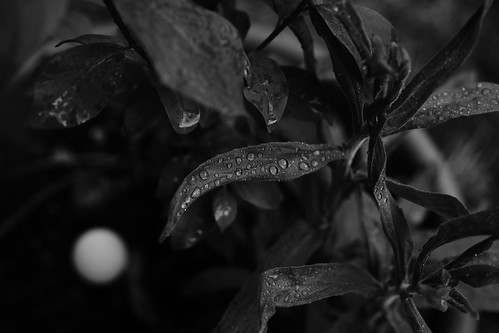vegetation: (1, 1, 499, 333)
